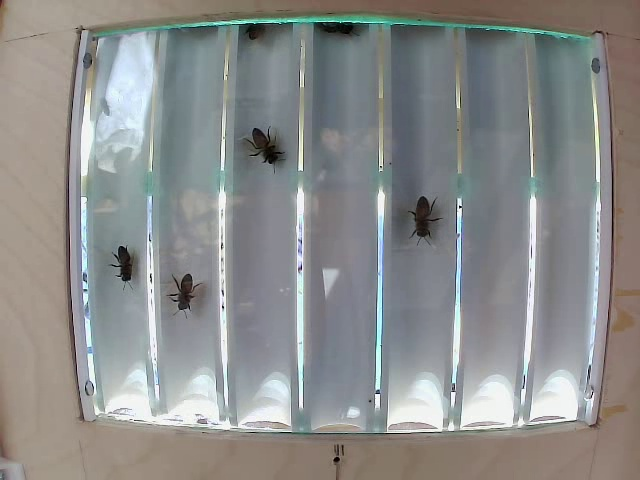bee: (404, 178, 453, 243), (236, 110, 269, 166), (165, 270, 198, 324), (102, 244, 133, 281)
